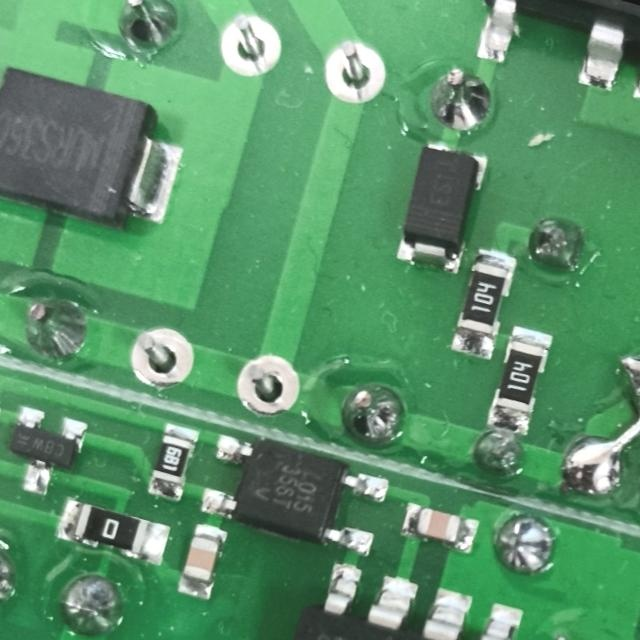chip-capacitor: (395, 495, 482, 555), (173, 516, 233, 601)
chip-resistor: (52, 491, 176, 570), (448, 243, 520, 361), (484, 319, 556, 435), (145, 417, 204, 503)
diode: (0, 52, 196, 244), (390, 135, 494, 277)
ic: (193, 423, 395, 560), (456, 0, 640, 113)
transistor: (0, 398, 92, 502)
